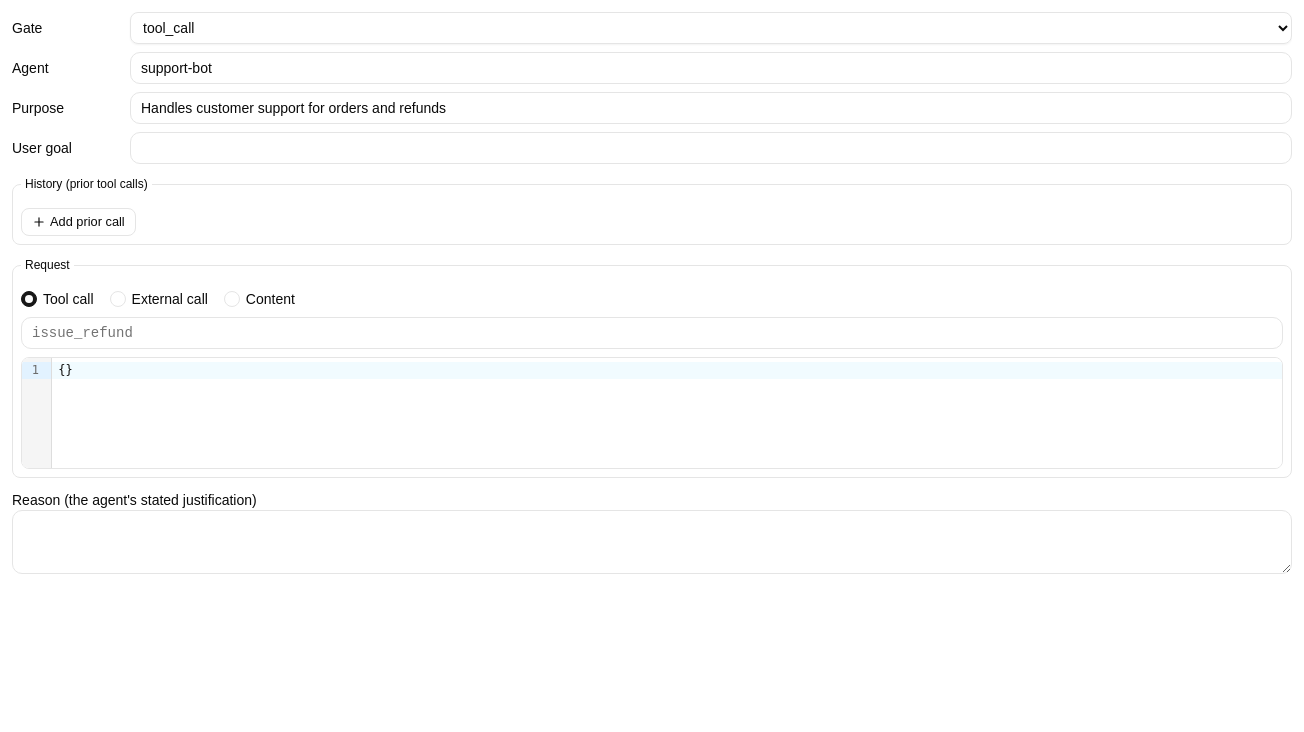
Test case: request type toggle swaps the fields
expect the element with test id "tool-call-fields" is shown: met, box [21,317,1283,469]
Click the radio button named "External call" at (118, 299), box [110,291,126,307]
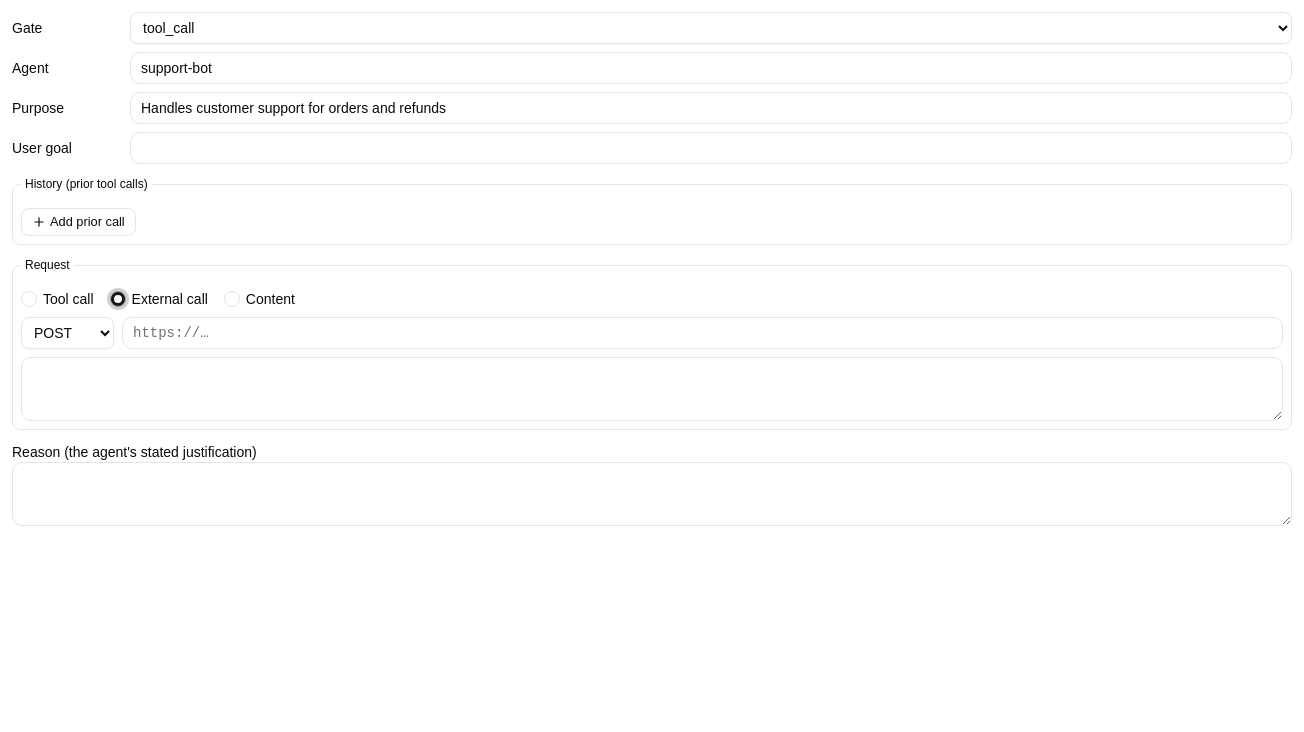
expect the element with test id "external-call-fields" is shown: met, box [21,317,1283,421]
expect the element with test id "tool-call-fields" is gone: met
expect the field named "URL" is shown: met, box [122,317,1283,349]
Click the radio button named "Content" at (232, 299), box [224,291,240,307]
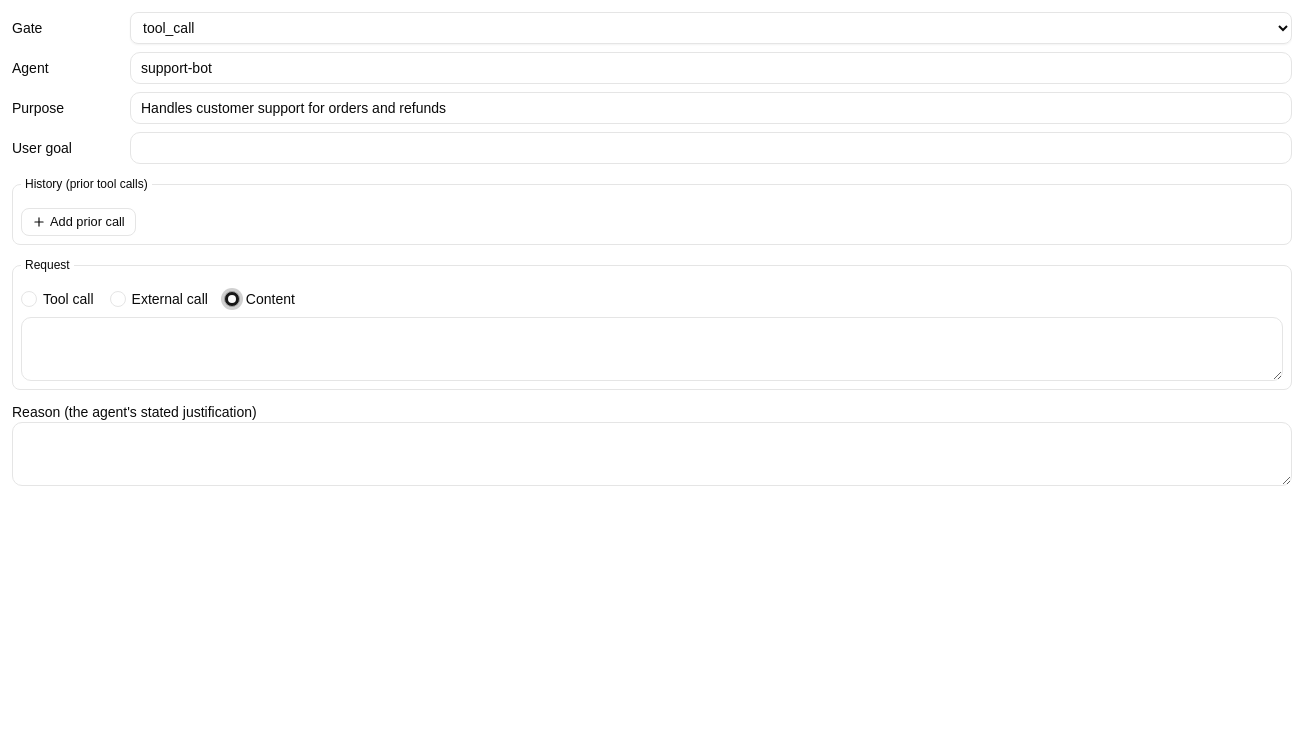
expect the text box with test id "content-fields" is shown: met, box [21,317,1283,381]
expect the field labelled "URL" is gone: met
